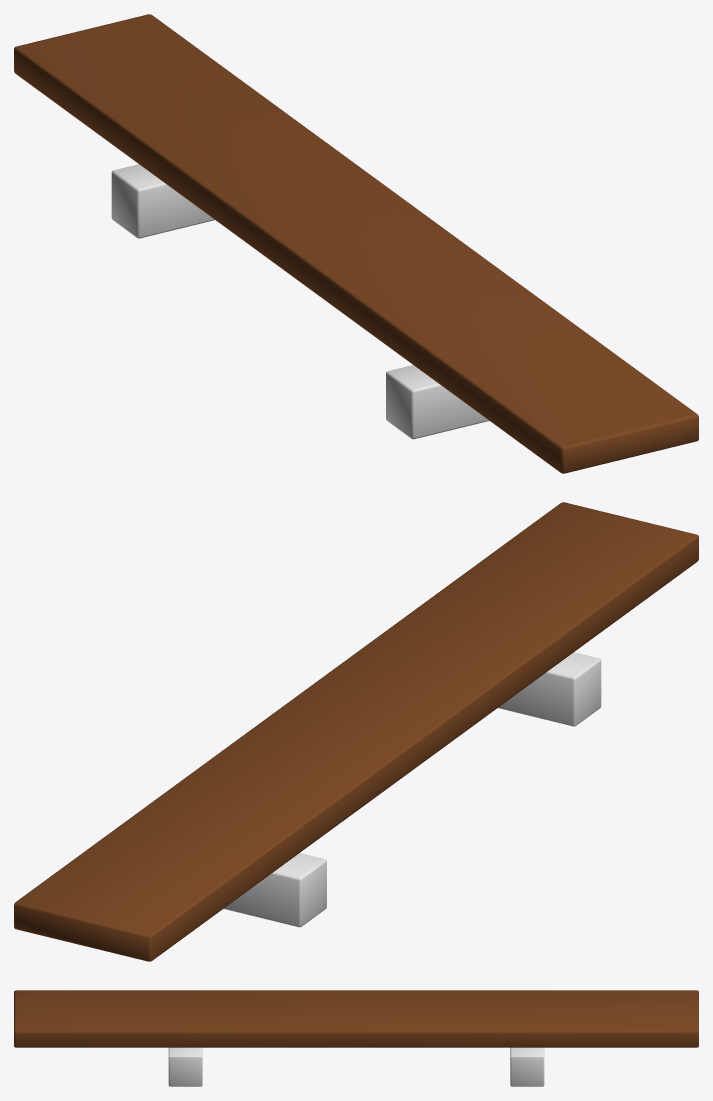
Rendered from SM_Bridge.fbx.
The picture shows the model from 3 angles, top to bottom: view 1: azimuth 30°, elevation 25°; view 2: azimuth 150°, elevation 25°; view 3: azimuth 270°, elevation 25°; orthographic projection. The views are drawn at different scales.
Parts seen in each view (by area): view 1: Bridge; view 2: Bridge; view 3: Bridge.
Boxes of the visible parts, <box> form: Bridge: <box>14,14,698,473</box>; Bridge: <box>14,502,698,961</box>; Bridge: <box>14,990,698,1086</box>.
Size of the model in its own units: 200 by 40 by 15.4.
